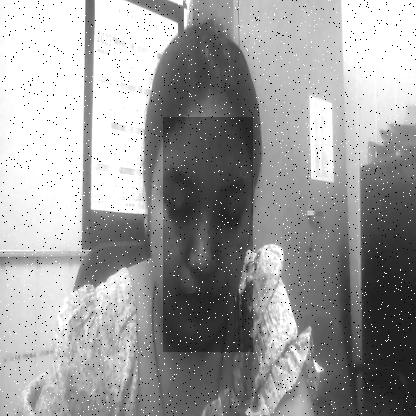Normal: (163, 117, 253, 352)
